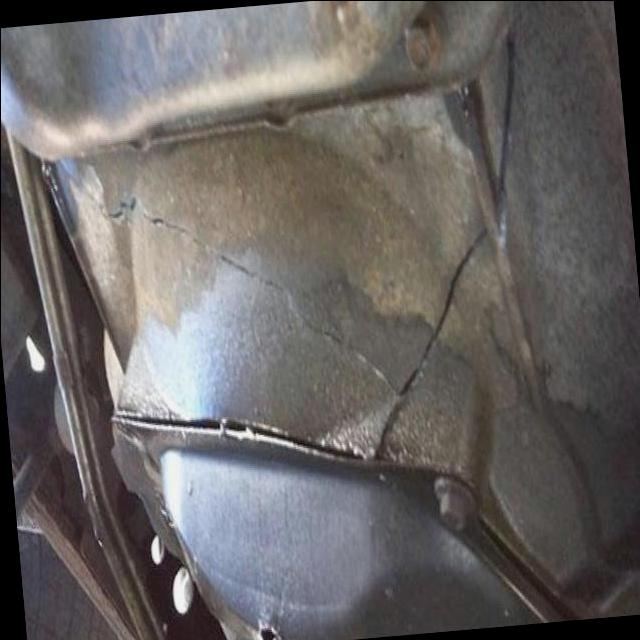defect: (58, 149, 489, 408), (494, 23, 517, 249)
